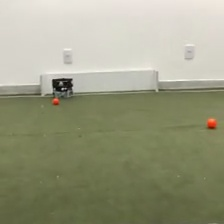ball: (205, 115, 218, 129), (51, 96, 60, 106)
goal: (37, 67, 160, 98)
robot: (50, 76, 75, 99)
